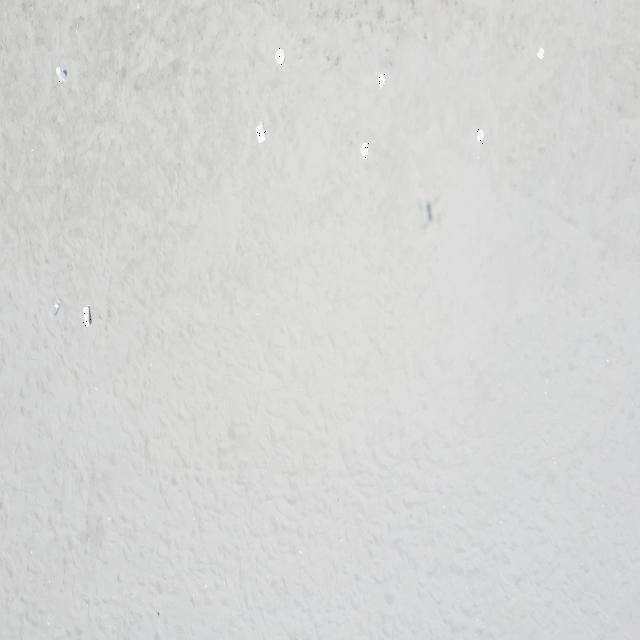take-away-containers: (256, 121, 266, 144), (360, 141, 370, 160), (275, 47, 285, 66), (476, 128, 485, 144), (376, 73, 384, 89), (537, 46, 544, 59)
takeaway-cup: (48, 298, 61, 318), (82, 305, 91, 327), (56, 66, 66, 82)
